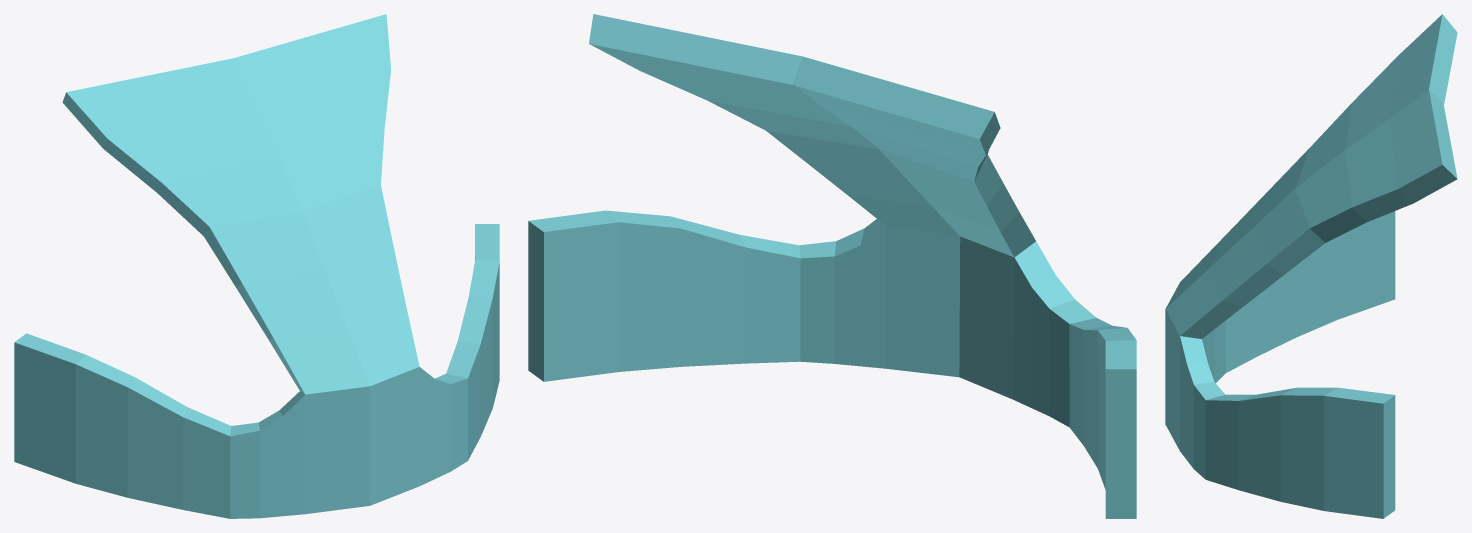
The model's file is Hood3.fbx.
3 renders of one model, left to right at view 1: azimuth 30°, elevation 25°; view 2: azimuth 150°, elevation 25°; view 3: azimuth 270°, elevation 25°, orthographic. The views are drawn at different scales.
Visible parts, largest first — view 1: Hood3; view 2: Hood3; view 3: Hood3.
Boxes of the visible parts, box(x1,y1,x2,y2) form: Hood3: box(14, 14, 499, 518); Hood3: box(528, 14, 1136, 518); Hood3: box(1165, 14, 1457, 518).
Size of the model in its own units: 696 by 476 by 377.
